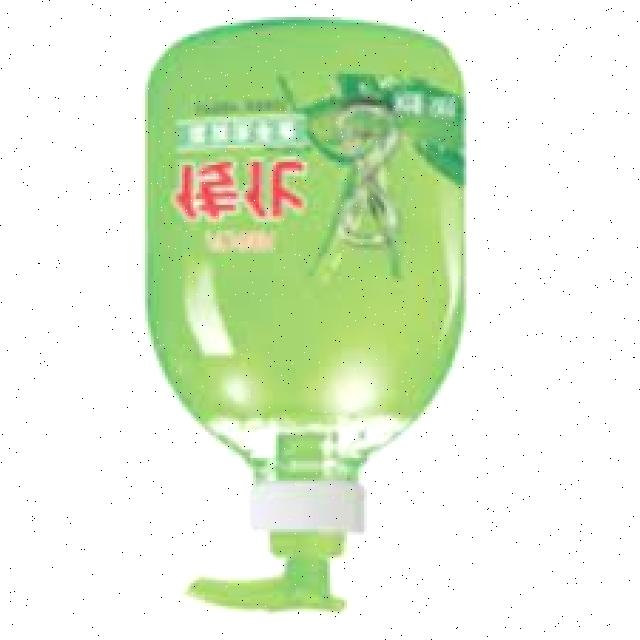liquid soap: (138, 10, 477, 625)
